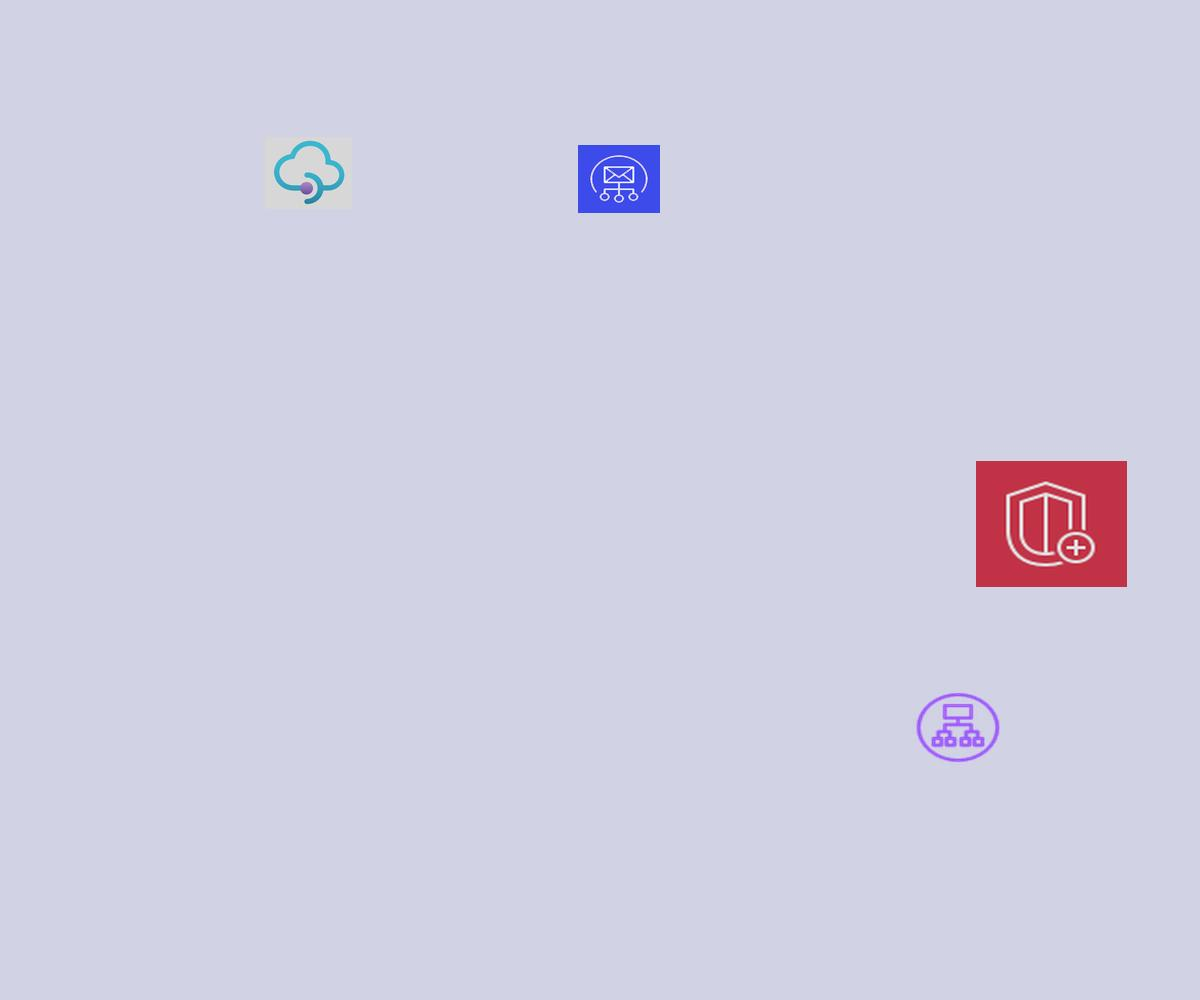AWS-Res_Elastic-Load-Balancing_Application-Load-Balancer: (913, 690, 1003, 765)
AWS-Shield: (976, 461, 1127, 587)
AWS-Simple-Email-Service: (578, 145, 660, 213)
Azure_api_gateway: (265, 137, 352, 209)
